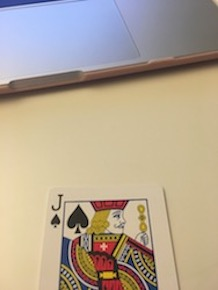JackOfSpades: (35, 182, 184, 290)
